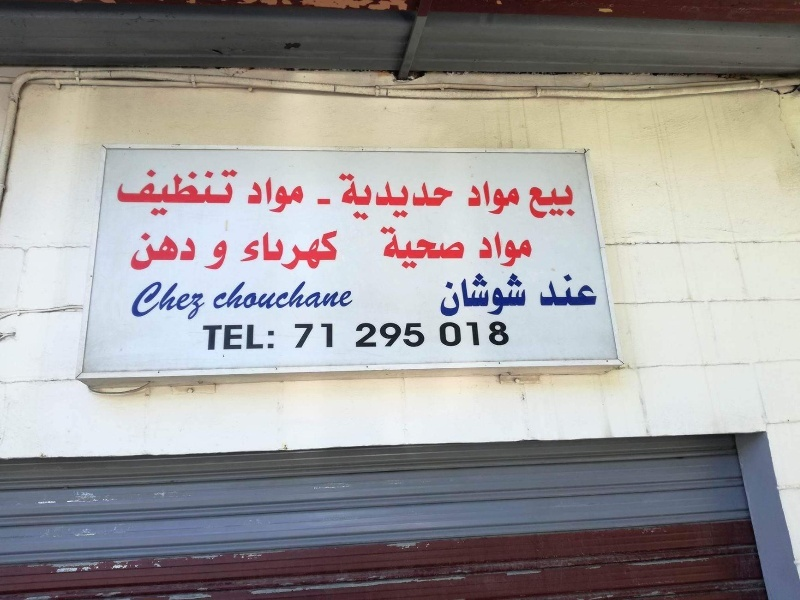text: (129, 163, 144, 218), (145, 163, 160, 218), (161, 163, 176, 218), (177, 163, 192, 218), (193, 163, 208, 218), (209, 163, 224, 218), (225, 163, 240, 218), (353, 173, 368, 221), (369, 173, 384, 221), (385, 173, 400, 221), (401, 173, 416, 221), (417, 173, 432, 221), (433, 173, 448, 221), (449, 273, 464, 318), (465, 273, 480, 318), (481, 273, 496, 318), (497, 273, 512, 318), (338, 173, 352, 221), (385, 227, 400, 271), (401, 227, 416, 271), (417, 227, 432, 271), (433, 227, 448, 271), (449, 227, 464, 271), (145, 280, 160, 323), (161, 280, 176, 323), (177, 280, 192, 323), (241, 230, 256, 272), (257, 230, 272, 272), (273, 230, 288, 272), (289, 230, 304, 272), (305, 230, 320, 272), (321, 230, 336, 272), (289, 176, 305, 214), (481, 229, 496, 269), (497, 229, 512, 269), (513, 229, 528, 269), (529, 183, 544, 223), (545, 183, 560, 223), (561, 183, 576, 223), (145, 232, 160, 271), (161, 232, 176, 271), (177, 232, 192, 271), (513, 273, 526, 318), (257, 176, 272, 214), (273, 176, 288, 214), (131, 280, 144, 323), (193, 280, 206, 323), (337, 279, 353, 312), (481, 181, 496, 216), (497, 181, 512, 216), (545, 273, 560, 308), (561, 273, 576, 308), (577, 273, 592, 308), (119, 163, 128, 218), (225, 279, 240, 312), (241, 279, 256, 312), (257, 279, 272, 312), (273, 279, 288, 312), (289, 279, 304, 312), (305, 279, 320, 312), (321, 279, 336, 312), (209, 240, 224, 271), (467, 181, 480, 216), (305, 321, 320, 350), (321, 321, 336, 350), (209, 324, 224, 352), (225, 324, 240, 352), (241, 324, 256, 352), (257, 324, 272, 352), (369, 322, 384, 350), (385, 322, 400, 350), (401, 322, 416, 350), (439, 273, 448, 318), (212, 279, 224, 312), (134, 232, 144, 271), (449, 321, 464, 347), (465, 321, 480, 347), (481, 321, 496, 347), (497, 321, 510, 347), (356, 322, 368, 350), (293, 321, 304, 350), (248, 176, 256, 214), (513, 181, 521, 216), (417, 322, 427, 350), (193, 232, 200, 271), (438, 321, 448, 347), (449, 173, 454, 221), (379, 227, 384, 271), (593, 273, 598, 308), (273, 324, 279, 352), (529, 229, 533, 269), (337, 230, 340, 272), (204, 240, 208, 271), (225, 240, 229, 271), (204, 324, 208, 352), (541, 273, 544, 308), (478, 229, 480, 269), (526, 183, 528, 223), (321, 198, 331, 205), (239, 230, 240, 272), (317, 198, 320, 205)
